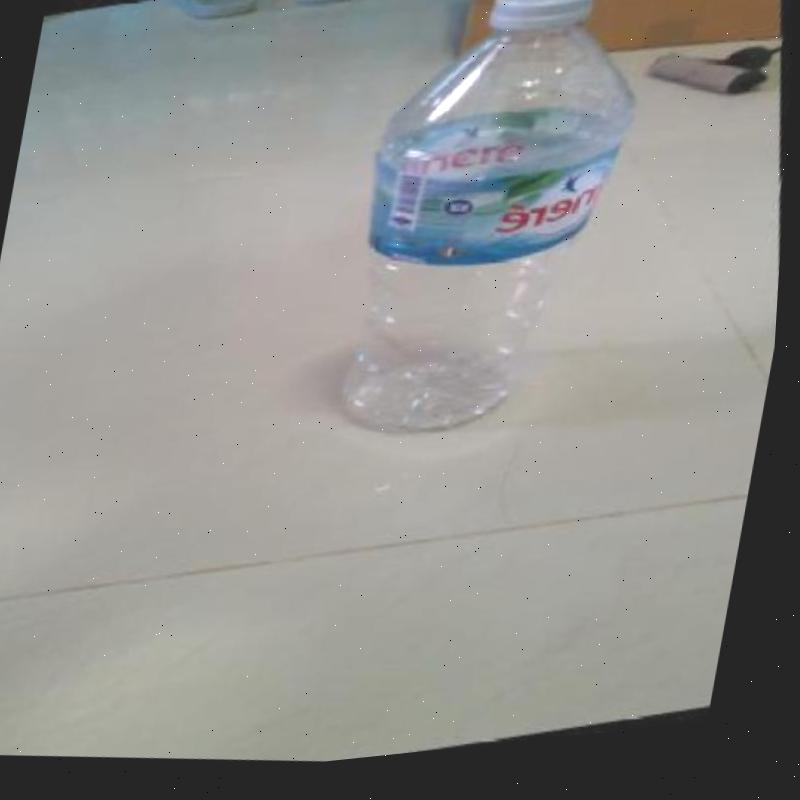botella: (328, 0, 660, 470)
